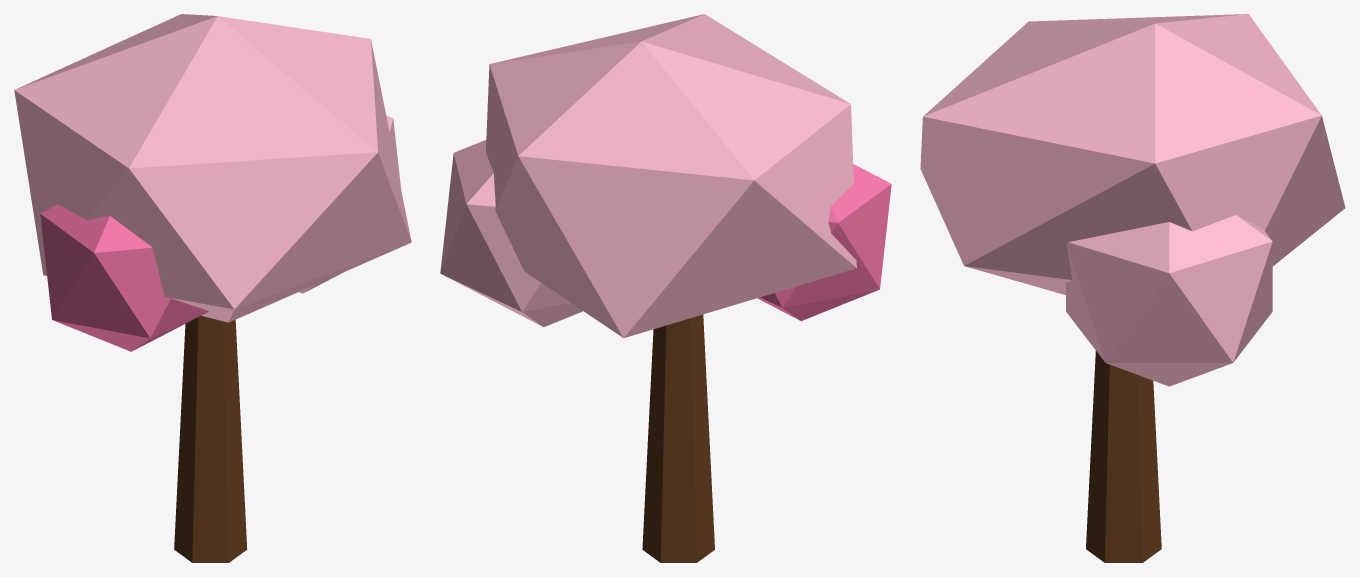
The model's file is cherry_tree.glb.
3 renders of one model, left to right at view 1: azimuth 30°, elevation 25°; view 2: azimuth 150°, elevation 25°; view 3: azimuth 270°, elevation 25°, orthographic. The views are drawn at different scales.
Visible parts, largest first — view 1: cherry_tree; view 2: cherry_tree; view 3: cherry_tree.
Boxes of the visible parts, box(x1,y1,x2,y2) form: cherry_tree: box(14, 14, 411, 562); cherry_tree: box(440, 14, 891, 562); cherry_tree: box(920, 14, 1345, 562).
Bounding box in the file's own units: 3.04 × 3.9 × 2.8.
